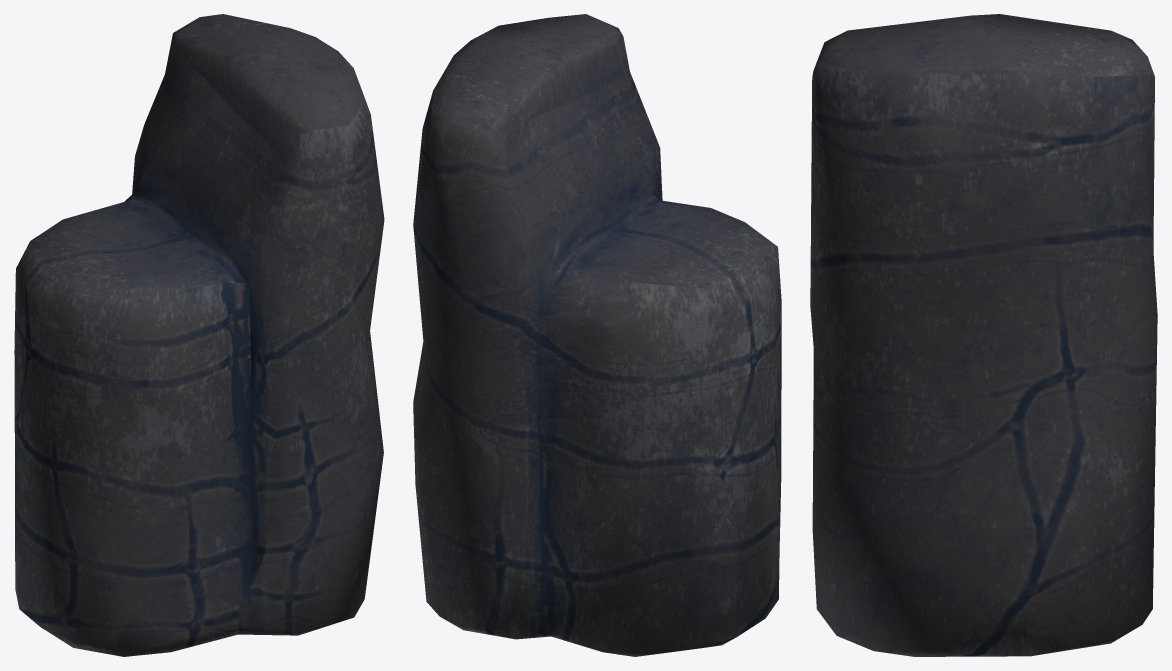
Rendered from obstacle_petit3.obj.
3 views of the same model, side by side, from view 1: azimuth 30°, elevation 25°; view 2: azimuth 150°, elevation 25°; view 3: azimuth 270°, elevation 25° (orthographic). The views are drawn at different scales.
Visible parts, largest first — view 1: obstacle_petit3.001; view 2: obstacle_petit3.001; view 3: obstacle_petit3.001.
Part boxes in pixels (x1=…): obstacle_petit3.001: x1=14, y1=14, x2=384, y2=656; obstacle_petit3.001: x1=413, y1=14, x2=781, y2=656; obstacle_petit3.001: x1=810, y1=14, x2=1157, y2=656.
Bounding box in the file's own units: 783 × 1252 × 652.
Materials: 1 (1 with a texture image).
